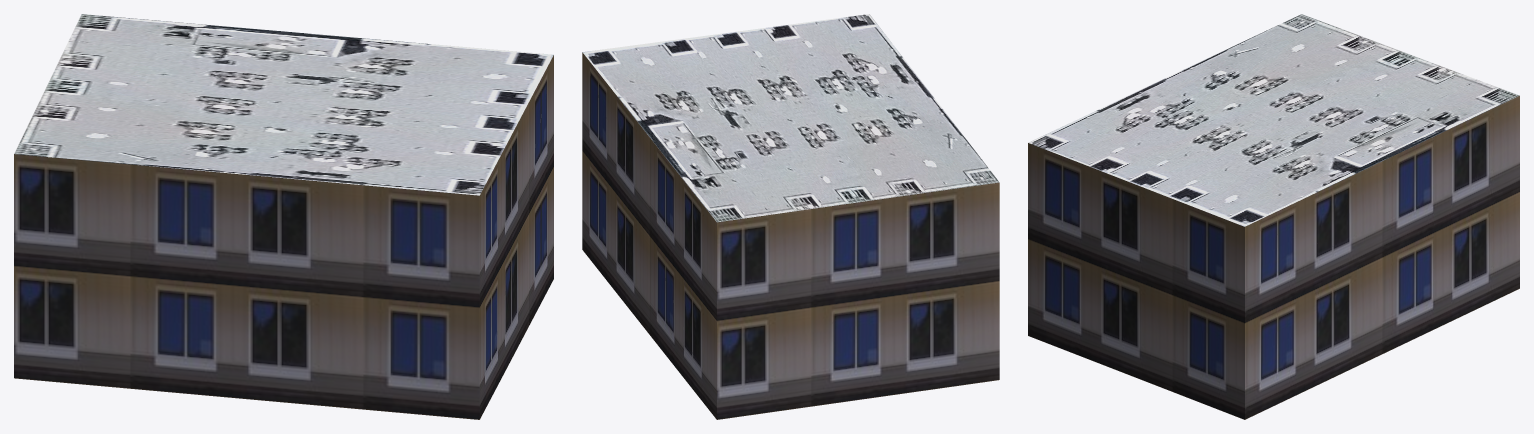
File: ResTex__454.fbx
3 views of the same model, side by side, from view 1: azimuth 30°, elevation 25°; view 2: azimuth 150°, elevation 25°; view 3: azimuth 270°, elevation 25° (orthographic). The views are drawn at different scales.
Parts seen in each view (by area): view 1: CityEngineMaterial_5_m, CityEngineMaterial_4_m; view 2: CityEngineMaterial_5_m, CityEngineMaterial_4_m; view 3: CityEngineMaterial_5_m, CityEngineMaterial_4_m.
Boxes of the visible parts, x1=… form: CityEngineMaterial_5_m: x1=14, y1=55, x2=553, y2=419; CityEngineMaterial_4_m: x1=14, y1=14, x2=553, y2=195; CityEngineMaterial_5_m: x1=582, y1=52, x2=999, y2=419; CityEngineMaterial_4_m: x1=582, y1=14, x2=999, y2=222; CityEngineMaterial_5_m: x1=1028, y1=95, x2=1519, y2=419; CityEngineMaterial_4_m: x1=1028, y1=14, x2=1519, y2=226.
Size of the model in its own units: 14.19 by 6 by 13.85.
2 materials, 2 textured.
